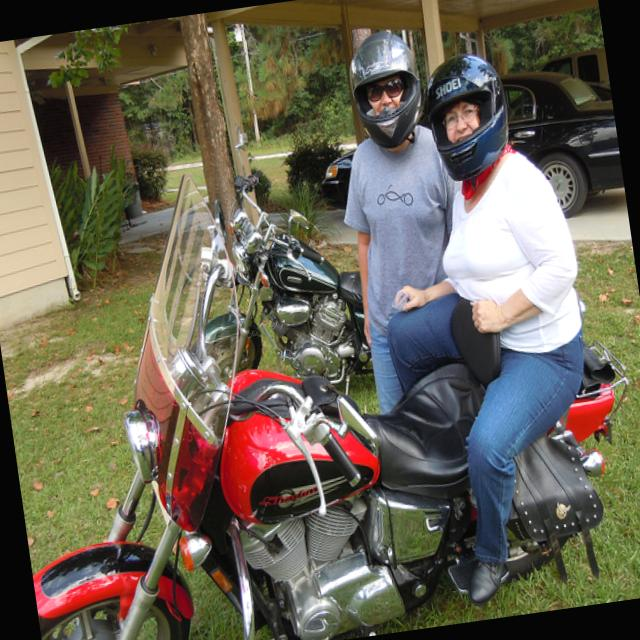Vehicle: (0, 116, 640, 640), (308, 59, 628, 250), (208, 101, 376, 398)
